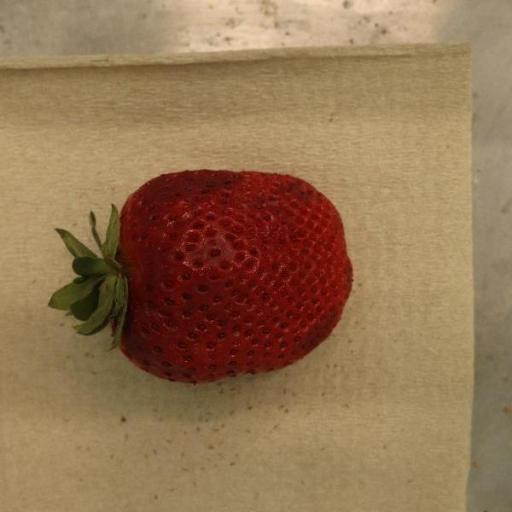Strawberry: (47, 170, 354, 385)
